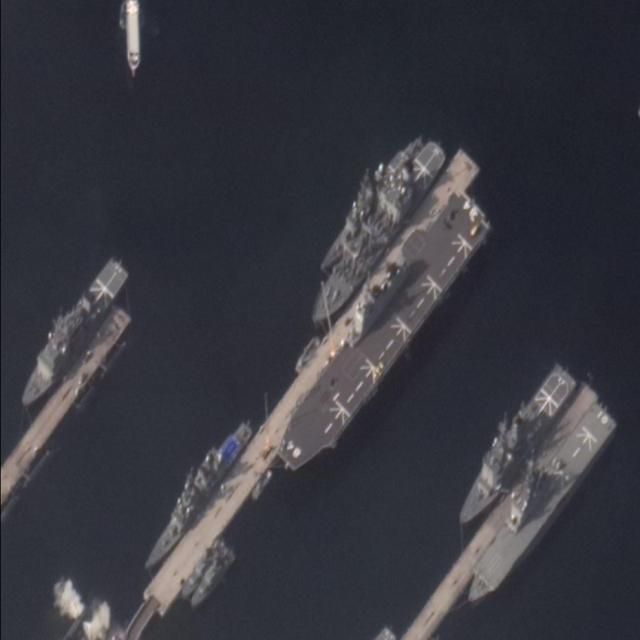Auxiliary Ships: (302, 136, 451, 330), (449, 363, 579, 533), (12, 256, 132, 412)
Destroyer: (264, 187, 501, 479), (131, 415, 257, 573)
Dock: (142, 149, 481, 613)
Landing: (452, 400, 619, 612)
Other Ship: (125, 3, 141, 70)
Other Warship: (306, 124, 427, 271)
